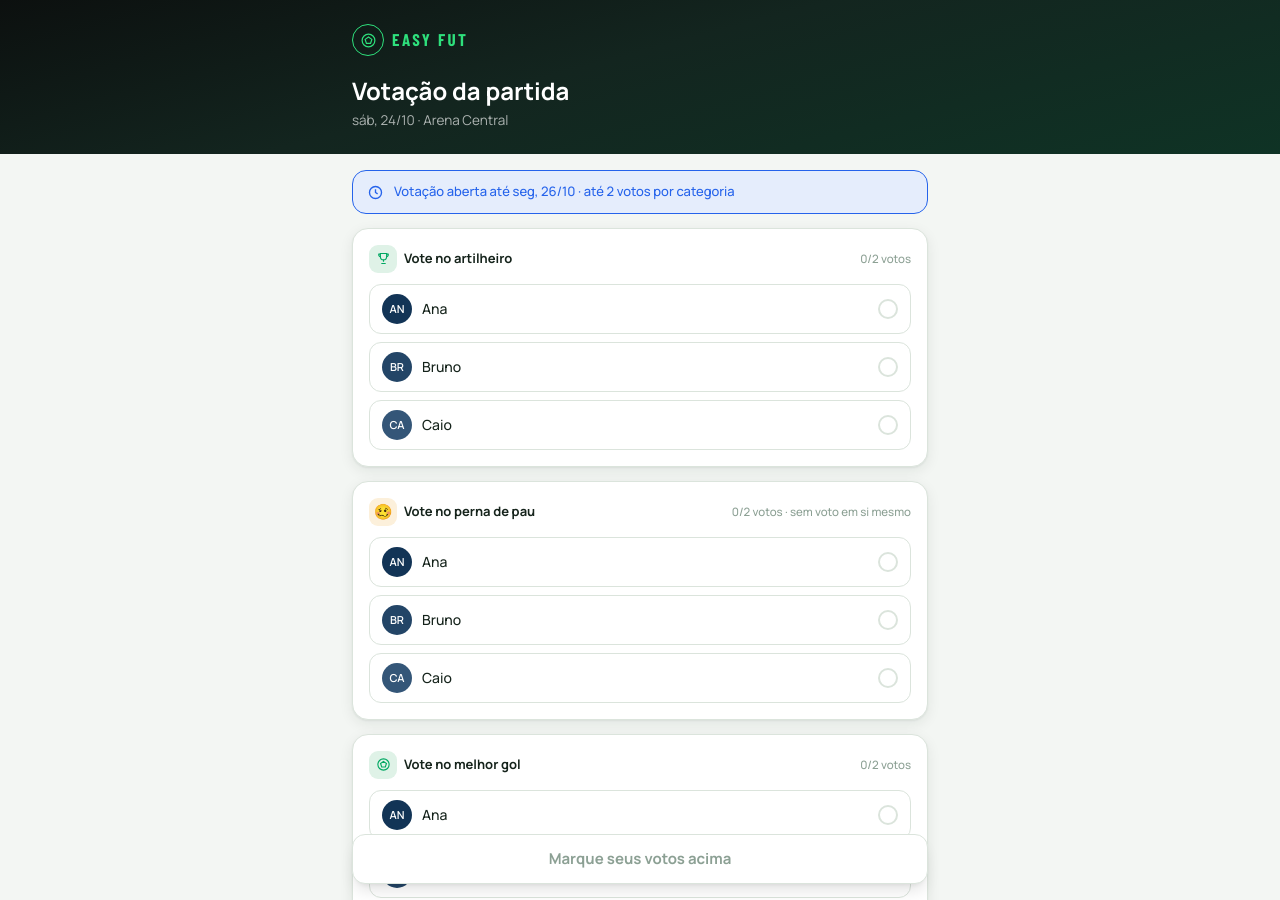
it: /votar/:token › 400 da API (voto em si mesmo) aparece perto do botão
This screenshot has width=1280, height=900.
Click the button "AN Ana" below "Vote no perna de pau". click: coordinates (397, 562)
box: [369, 537, 911, 587]
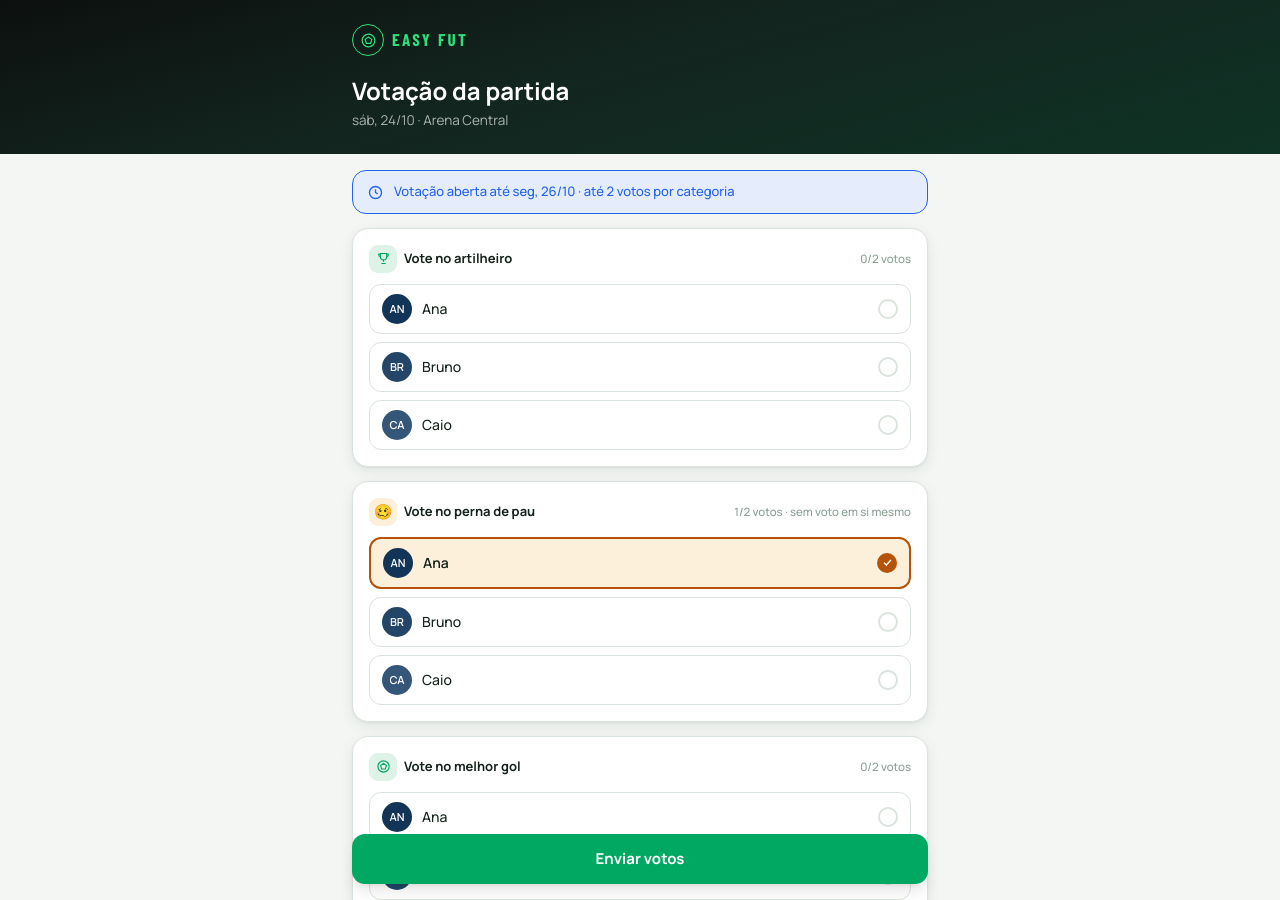
Click the button "Enviar votos". click: coordinates (640, 859)
box: [352, 834, 928, 884]
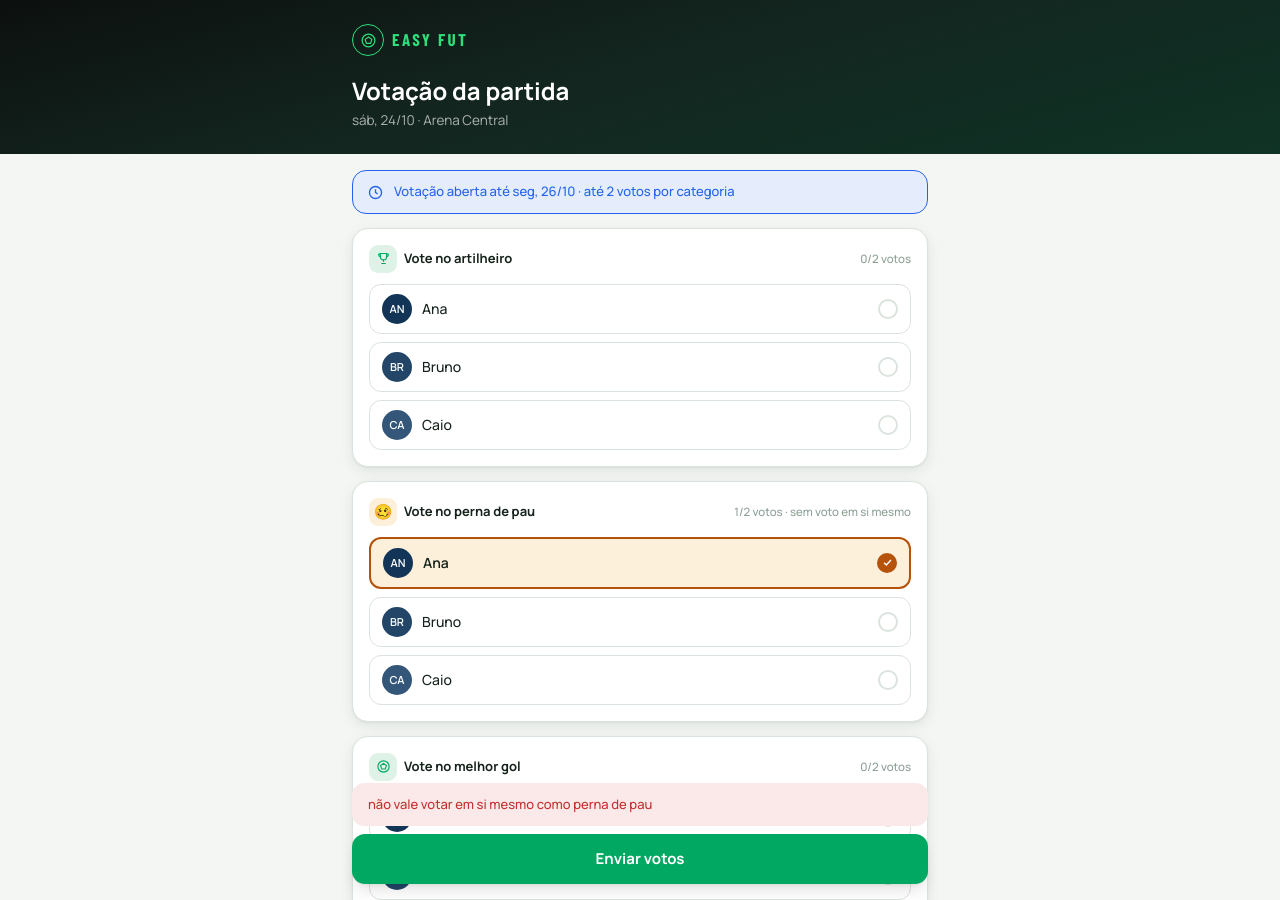
Expected: the message "não vale votar em si mesmo como perna de pau" is shown, [352, 782, 928, 826]
